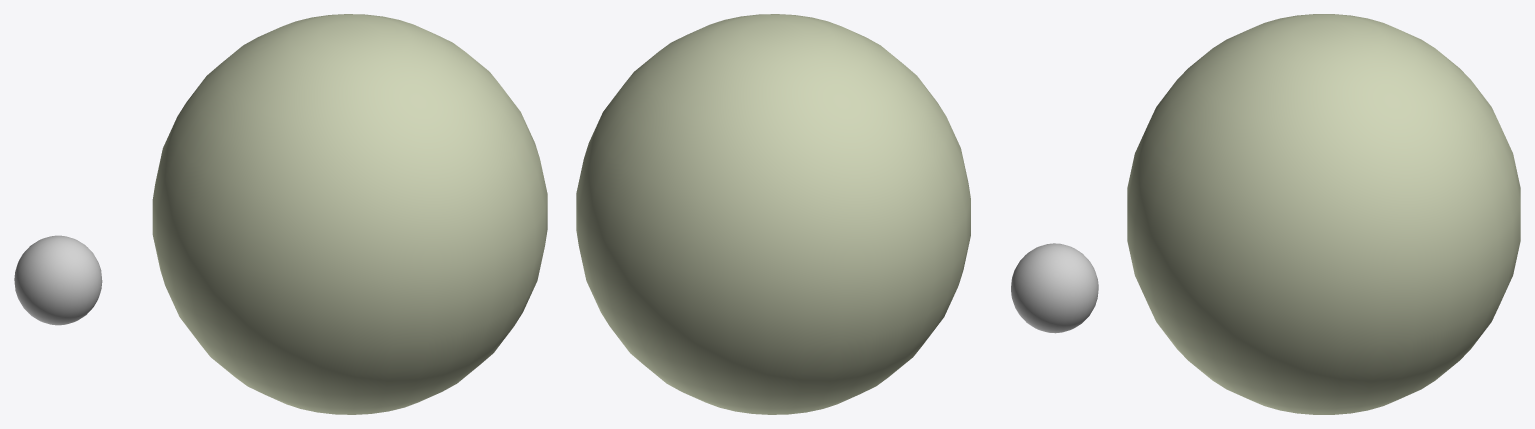
The model's file is spheres1.obj.
3 views of the same model, side by side, from view 1: azimuth 30°, elevation 25°; view 2: azimuth 150°, elevation 25°; view 3: azimuth 270°, elevation 25° (orthographic).
Visible parts, largest first — view 1: sphere2, sphere1; view 2: sphere2, sphere1; view 3: sphere2.
Part boxes in pixels (x1,y1,x2,y2): sphere2: [152, 14, 547, 414]; sphere1: [14, 235, 102, 325]; sphere2: [576, 14, 970, 414]; sphere1: [1011, 243, 1098, 333]; sphere2: [1127, 14, 1520, 414].
Bounding box in the file's own units: 12.48 × 8.64 × 8.59.
